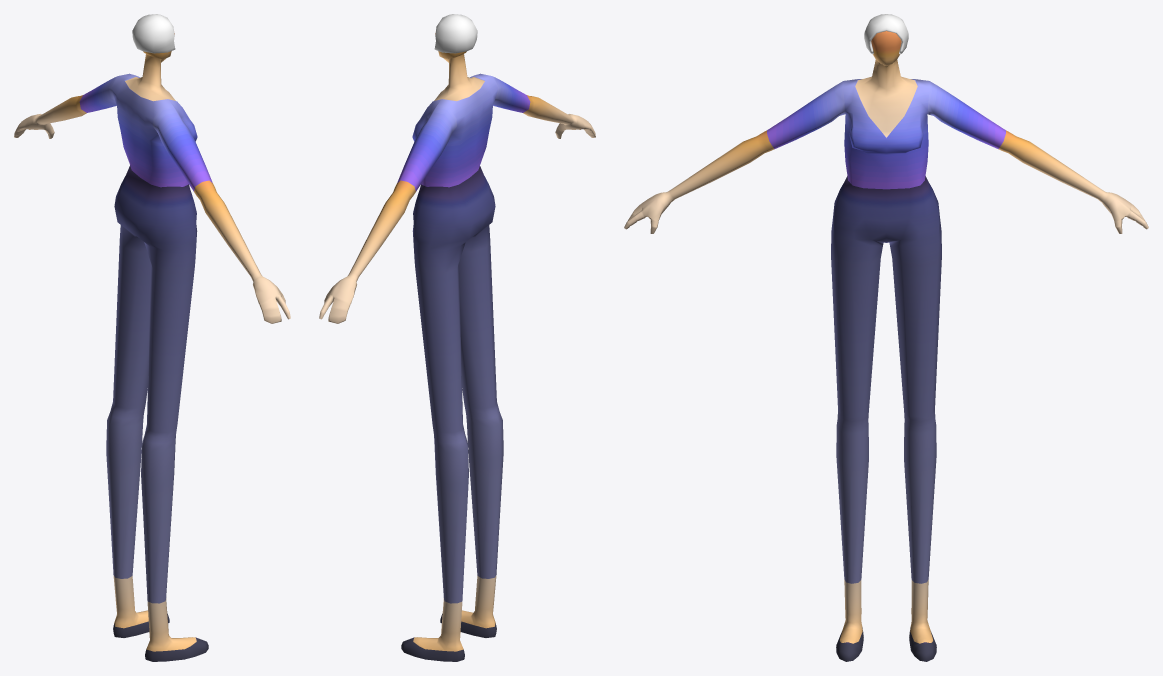
File: Tall_Woman.glb
3 renders of one model, left to right at view 1: azimuth 30°, elevation 25°; view 2: azimuth 150°, elevation 25°; view 3: azimuth 270°, elevation 25°, orthographic.
Visible parts, largest first — view 1: mesh_char_108; view 2: mesh_char_108; view 3: mesh_char_108.
Boxes of the visible parts, left/top/right/bottom form: mesh_char_108: left=14, top=14, right=290, bottom=661; mesh_char_108: left=319, top=14, right=595, bottom=661; mesh_char_108: left=624, top=14, right=1148, bottom=661.
Bounding box in the file's own units: 0.67 × 6.21 × 4.69.
2 materials, 1 textured.
